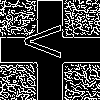V: (25, 25, 70, 58)
